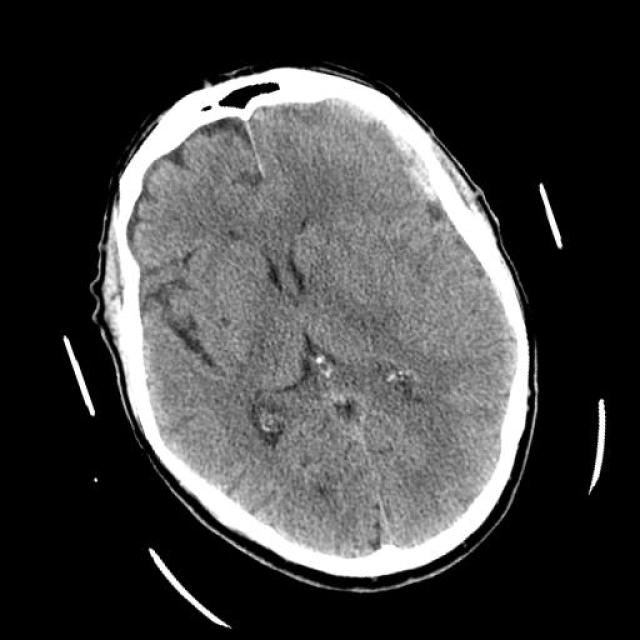Subdural: (322, 61, 480, 251)
